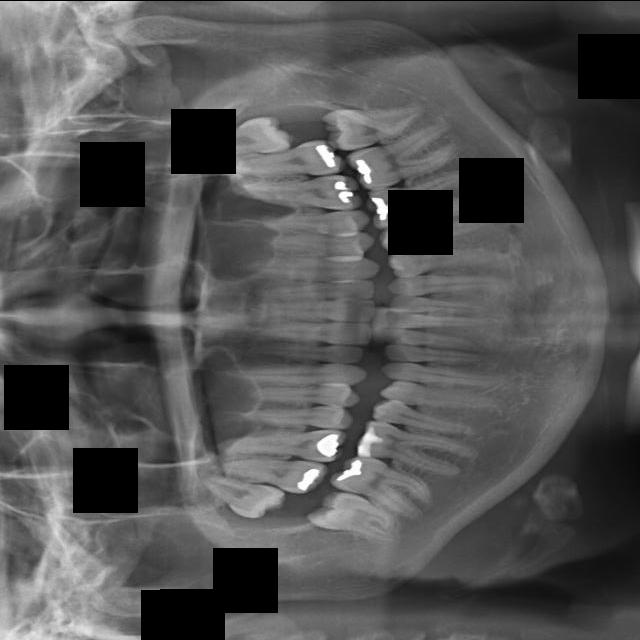3M ESPE Implant: (192, 470, 288, 525)
AGS Medikal Implant: (249, 280, 375, 301)
AMerOss Implant: (228, 256, 379, 281)
Amalgam filling: (269, 232, 374, 256)
Anthogyr Implant: (260, 208, 370, 240)
Bicon Implant: (238, 172, 360, 218)
BioHorizons Implant: (226, 135, 345, 185)
BioLife Implant: (188, 114, 293, 157)
Biomet 3i Implant: (320, 103, 429, 151)
Blue Sky Bio Implant: (344, 117, 465, 196)
Camlog Implant: (363, 164, 500, 231)
Caries: (219, 450, 329, 496)
Composite filling: (377, 211, 496, 255)
Cowellmedi Implant: (387, 236, 496, 279)
Crown: (387, 268, 510, 297)
DENTSPLY Implant: (387, 295, 492, 315)
Dentatus Implant: (384, 311, 495, 333)
Dentis Implant: (380, 326, 483, 353)
Dentium Implant: (383, 343, 490, 371)
Euroteknika Implant: (379, 359, 509, 390)
Filling: (379, 378, 505, 420)
Frontier Implant: (370, 397, 472, 442)
Hiossen Implant: (217, 425, 347, 461)
Implant: (327, 443, 441, 527)
Implant Direct: (354, 417, 477, 480)
Keystone Dental Implant: (305, 484, 406, 544)
MIS Implant: (239, 398, 354, 429)
Mandible: (245, 385, 360, 406)
Maxilla: (220, 362, 368, 385)
Megagen Implant: (240, 340, 364, 364)
Neodent Implant: (250, 319, 373, 345)
Neoss Implant: (246, 299, 376, 322)
